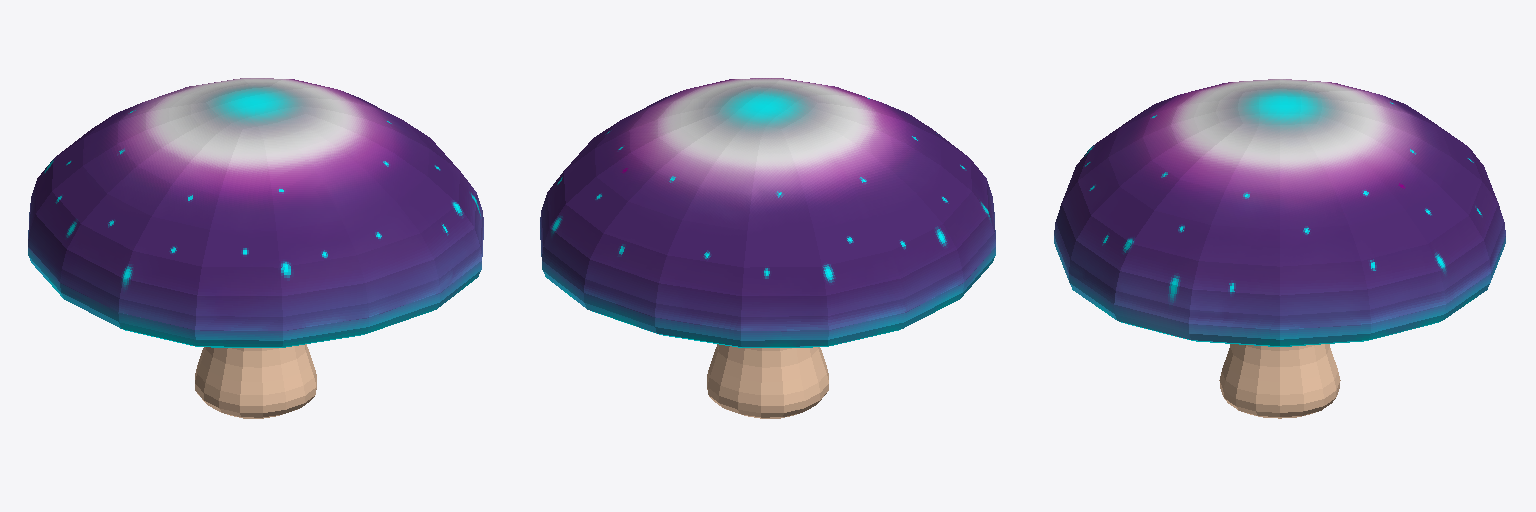
3 views of the same model, side by side, from view 1: azimuth 30°, elevation 25°; view 2: azimuth 150°, elevation 25°; view 3: azimuth 270°, elevation 25° (orthographic).
Parts seen in each view (by area): view 1: mushroom; view 2: mushroom; view 3: mushroom.
Part boxes in pixels (left/top/right/bottom): mushroom: left=28, top=78, right=483, bottom=418; mushroom: left=540, top=78, right=995, bottom=418; mushroom: left=1054, top=79, right=1505, bottom=418.
Size of the model in its own units: 9.99 by 7.36 by 9.99.
Materials: 1 (1 with a texture image).